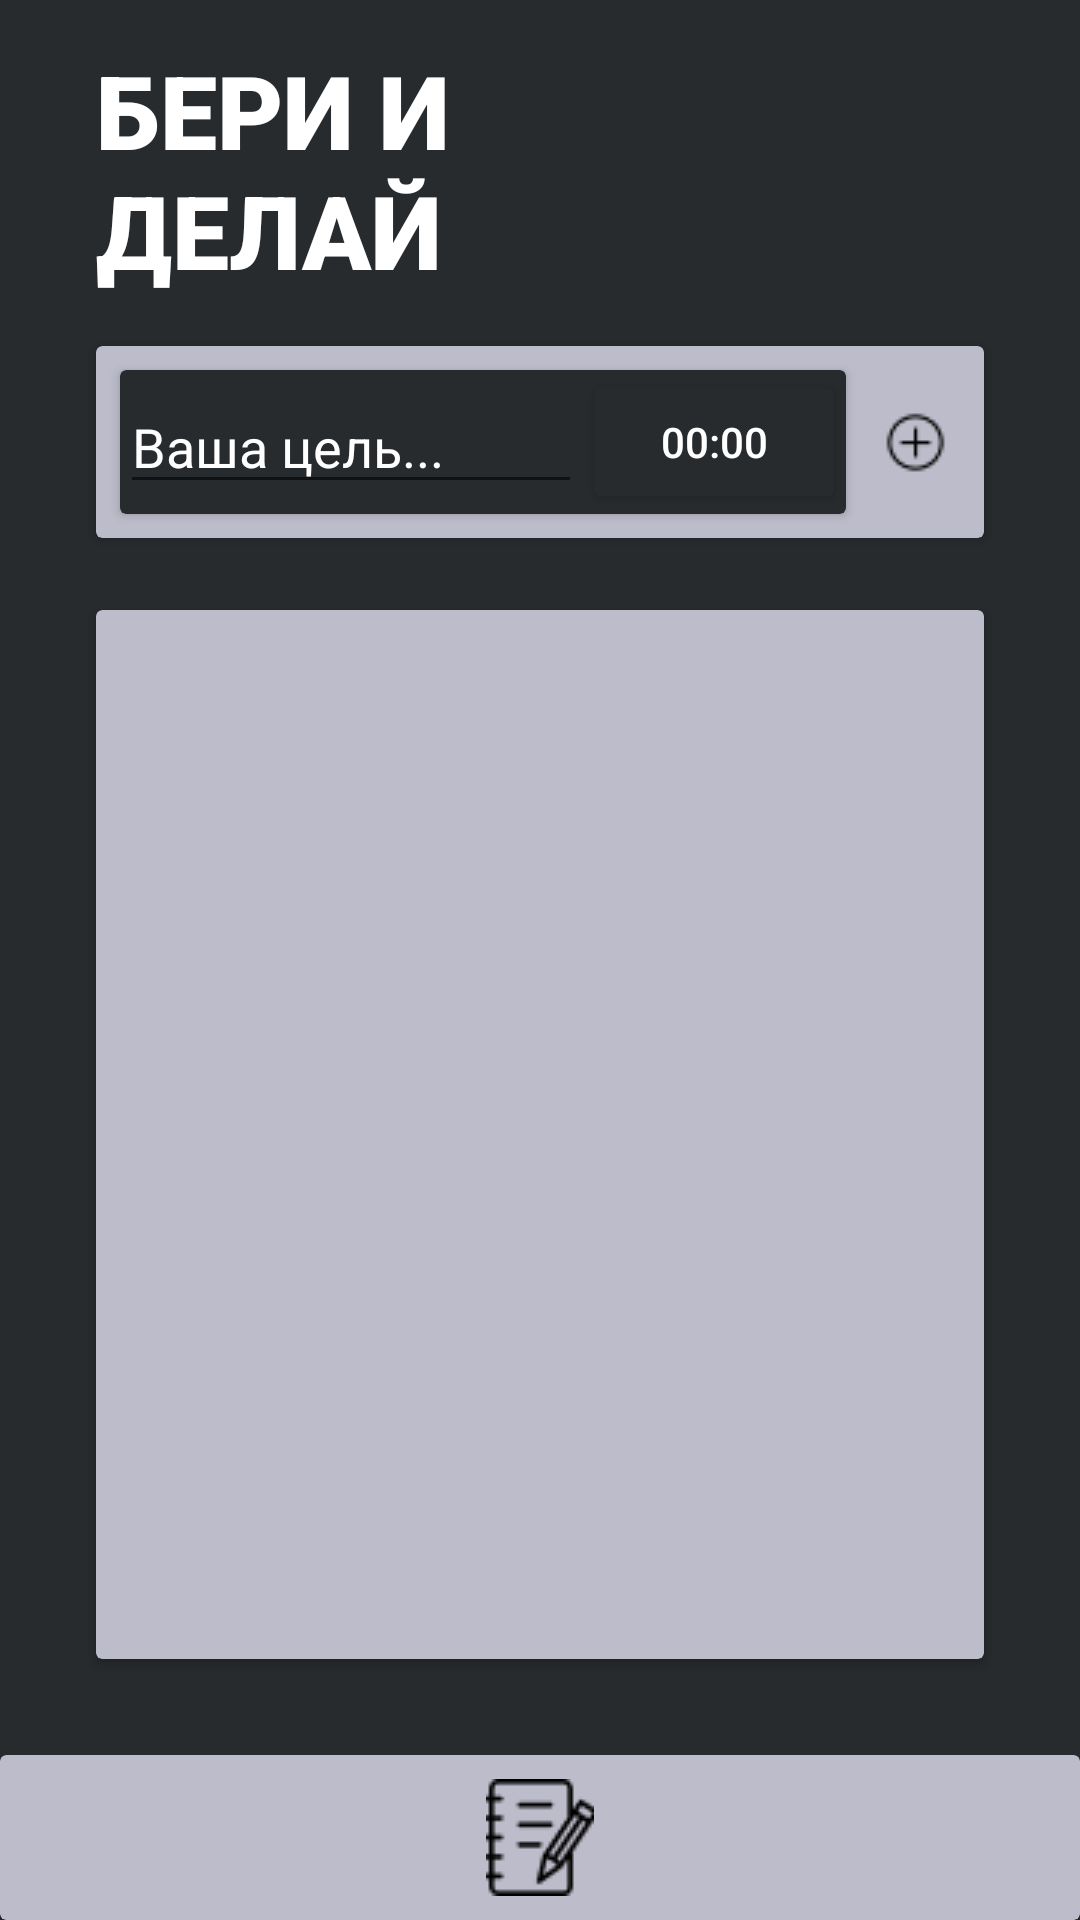

Locate icon controls on the screen. Image size 1080w x 1920h, boxes as {"left": x1, "top": y1, "right": x2, "bottom": y2}.
add: {"left": 886, "top": 413, "right": 945, "bottom": 472}
